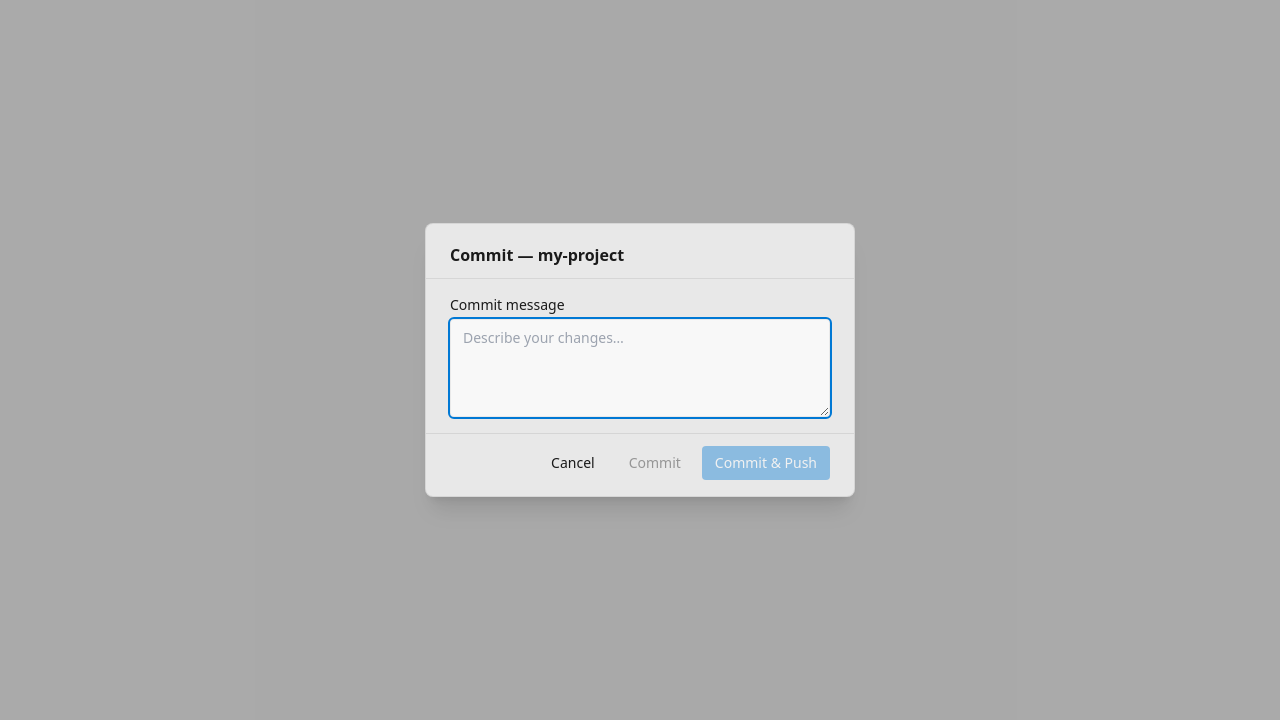
Test case: CommitDialog › buttons enable when message is typed
The width and height of the screenshot is (1280, 720).
In the text box labelled "Commit message": (640, 368) [450,319,830,417], type "fix: something"
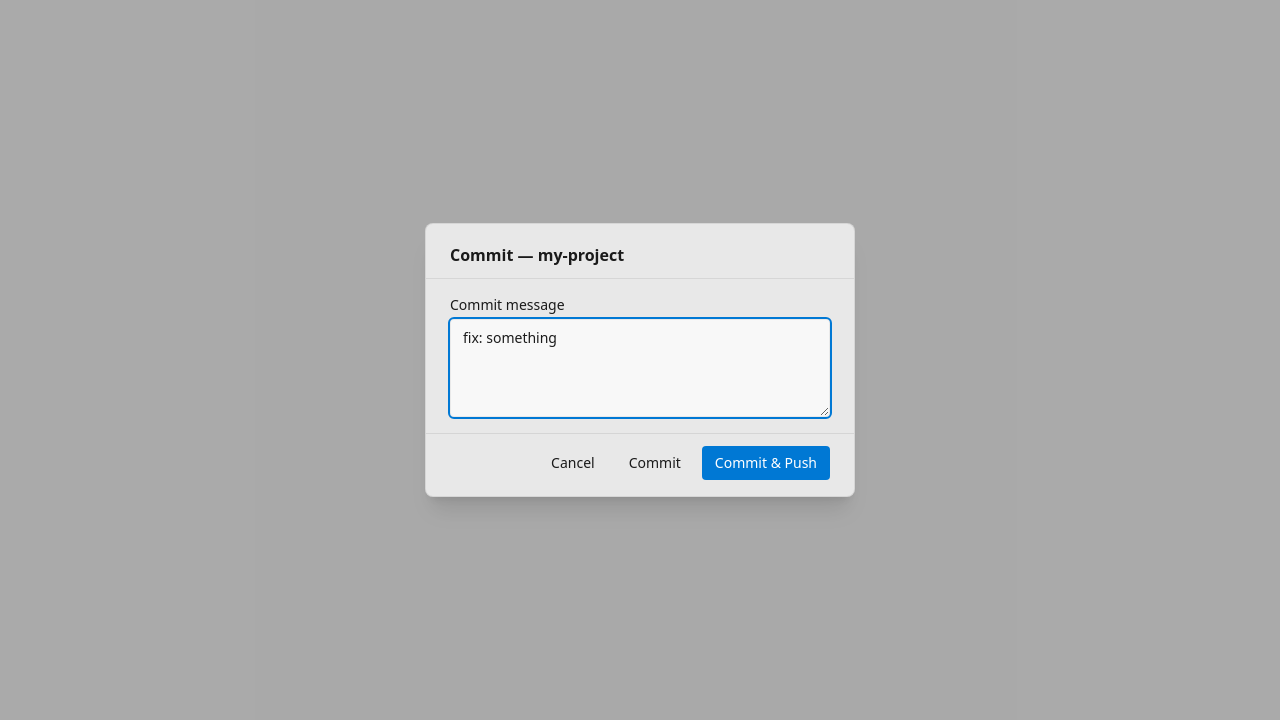
Expected: the button "Commit" is enabled, [616,446,694,480]
Expected: the button "Commit & Push" is enabled, [702,446,830,480]
